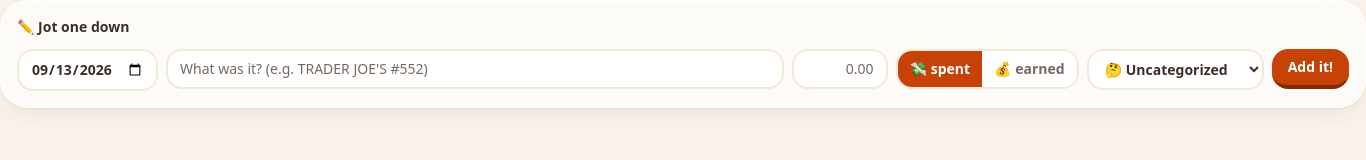
it: TransactionForm › shows a validation error and does not submit when description is empty
Type "10" into the field named "Amount" at (840, 69), box [792,49,888,89]
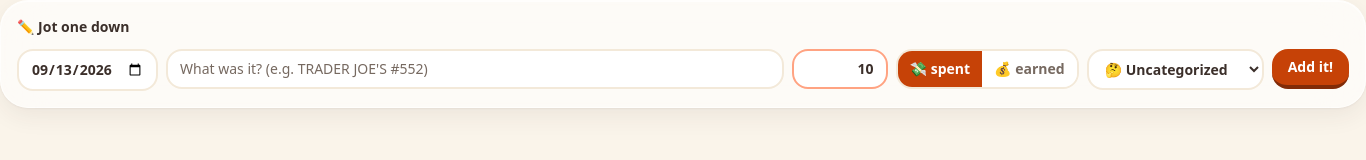
Click the button "Add it!" at (1310, 69), box [1272,49,1349,89]
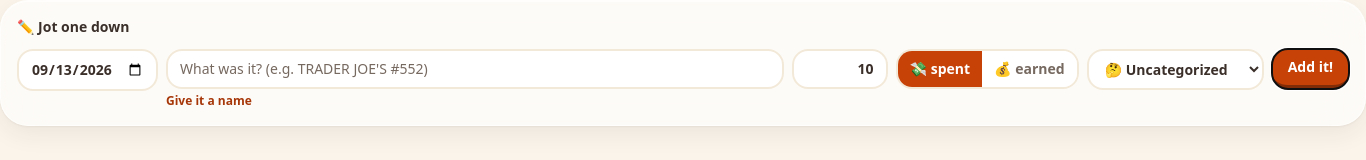
Expected: the text "Give it a name" is shown, [166,92,252,109]
